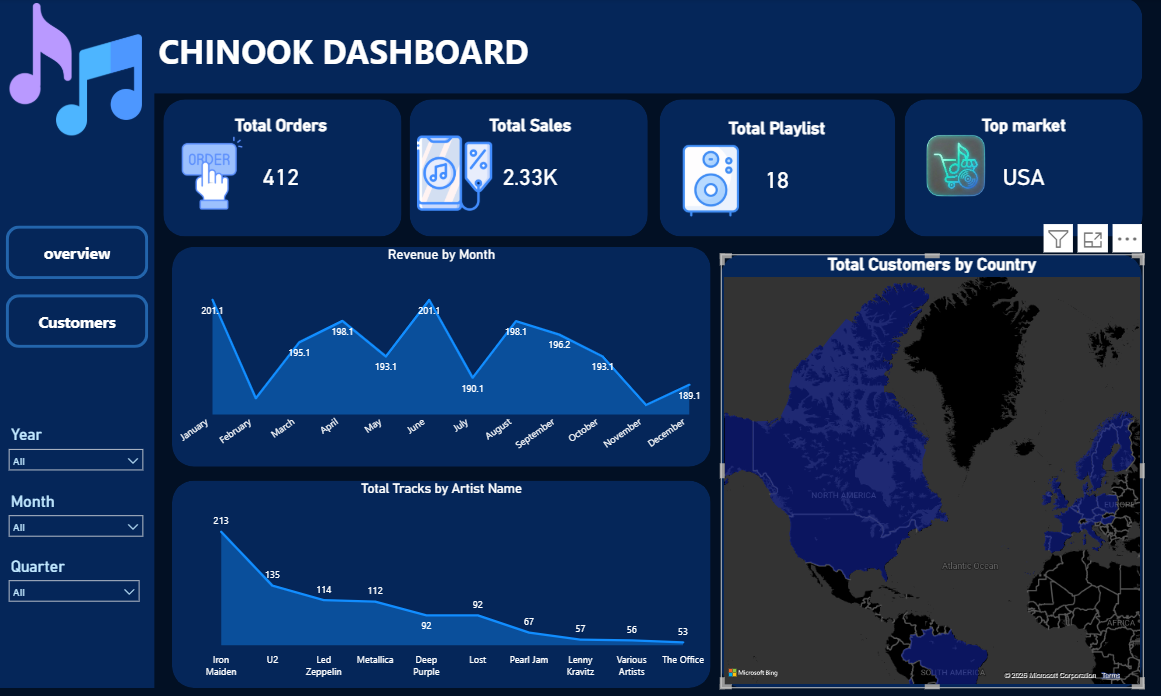

This screenshot's page, from the dashboard's own definition file:
{"tool":"powerbi","page":{"name":"market overview","canvas":[1500,900],"ordinal":1},"visuals":[{"type":"shape","box":[931.1,329.7,541.9,558],"z":0},{"type":"shape","box":[225.1,620.7,693.1,266.9],"z":1000},{"type":"shape","box":[0,0,1473.3,123.3],"z":2000},{"type":"shape","box":[0,0,202.6,887.7],"z":3000},{"type":"shape","box":[213.3,130,306.7,176.7],"z":4000},{"type":"shape","box":[531.1,129.8,306.7,176.7],"z":5000},{"type":"shape","box":[851.7,130,303.3,176.7],"z":6000},{"type":"shape","box":[1166.7,129.8,306.7,176.7],"z":7000},{"type":"shape","box":[225.1,320,693.1,283],"z":8000},{"type":"textbox","box":[203.3,33.3,498.3,73.3],"z":9000},{"type":"image","box":[10,6.7,183.3,170],"z":10000},{"type":"card","title":"Total Orders","fields":{"Values":["_Measures.Total Orders"]},"box":[243.3,151.7,245,131.7],"z":11000},{"type":"card","title":"Total Sales","fields":{"Values":["Sum(_Measures.Total sales)"]},"box":[588.3,151.7,195,131.7],"z":12000},{"type":"card","title":"Top market","fields":{"Values":["_Measures.Top Market"]},"box":[1193.2,151.2,255.7,131.9],"z":13000},{"type":"card","title":"Total Playlist","fields":{"Values":["_Measures.Total Playlist"]},"box":[889.3,154.4,228.3,131.9],"z":14000},{"type":"stackedAreaChart","fields":{"Category":["invoice.InvoiceDate.Variation.Date Hierarchy.Month"],"Y":["_Measures.Revenue"]},"box":[225.1,320,693.1,283],"z":15000},{"type":"lineChart","title":"Total Tracks by Artist Name","fields":{"Category":["artist.Name"],"Y":["_Measures.Total Tracks"]},"box":[225.1,620.7,693.1,262.1],"z":16000},{"type":"filledMap","title":"Total Customers by Country","fields":{"Category":["customer.Country"]},"box":[931.1,329.7,543.5,558],"z":17000},{"type":"shape","title":"market overview","box":[11.3,292.7,183.3,69.1],"z":18000},{"type":"shape","title":"market overview","box":[11.3,381.1,183.3,69.1],"z":19000},{"type":"slicer","fields":{"Values":["invoice.InvoiceDate.Variation.Date Hierarchy.Year"]},"box":[4.8,544.7,193,78.8],"z":20000},{"type":"slicer","fields":{"Values":["invoice.InvoiceDate.Variation.Date Hierarchy.Quarter"]},"box":[4.8,713.6,188.1,77.2],"z":21000},{"type":"slicer","fields":{"Values":["employee.HireDate.Variation.Date Hierarchy.Month"]},"box":[4.8,630,193,77.2],"z":22000},{"type":"image","box":[537.1,176.9,102.9,96.5],"z":23000},{"type":"image","box":[225.1,176.9,102.9,96.5],"z":24000},{"type":"image","box":[1093.5,133.5,279.8,181.7],"z":25000},{"type":"image","box":[866.7,186.5,102.9,96.5],"z":26000}]}

Visuals, with their boxes in screenshot pixels (x1, y1, x2, y2), scaled from the page's 1500x900 canvas onto the 1161x696 screenshot:
shape: box(721, 255, 1140, 686)
shape: box(174, 480, 711, 686)
shape: box(0, 0, 1140, 95)
shape: box(0, 0, 157, 686)
shape: box(165, 101, 402, 237)
shape: box(411, 100, 648, 237)
shape: box(659, 101, 894, 237)
shape: box(903, 100, 1140, 237)
shape: box(174, 247, 711, 466)
textbox: box(157, 26, 543, 82)
image: box(8, 5, 150, 137)
"Total Orders" card: box(188, 117, 378, 219)
"Total Sales" card: box(455, 117, 606, 219)
"Top market" card: box(924, 117, 1121, 219)
"Total Playlist" card: box(688, 119, 865, 221)
stackedAreaChart - invoice.InvoiceDate.Variation.Date Hierarchy.Month x _Measures.Revenue: box(174, 247, 711, 466)
"Total Tracks by Artist Name" lineChart: box(174, 480, 711, 683)
"Total Customers by Country" filledMap: box(721, 255, 1141, 686)
"market overview" shape: box(9, 226, 151, 280)
"market overview" shape: box(9, 295, 151, 348)
slicer - invoice.InvoiceDate.Variation.Date Hierarchy.Year: box(4, 421, 153, 482)
slicer - invoice.InvoiceDate.Variation.Date Hierarchy.Quarter: box(4, 552, 149, 612)
slicer - employee.HireDate.Variation.Date Hierarchy.Month: box(4, 487, 153, 547)
image: box(416, 137, 495, 211)
image: box(174, 137, 254, 211)
image: box(846, 103, 1063, 244)
image: box(671, 144, 750, 219)
